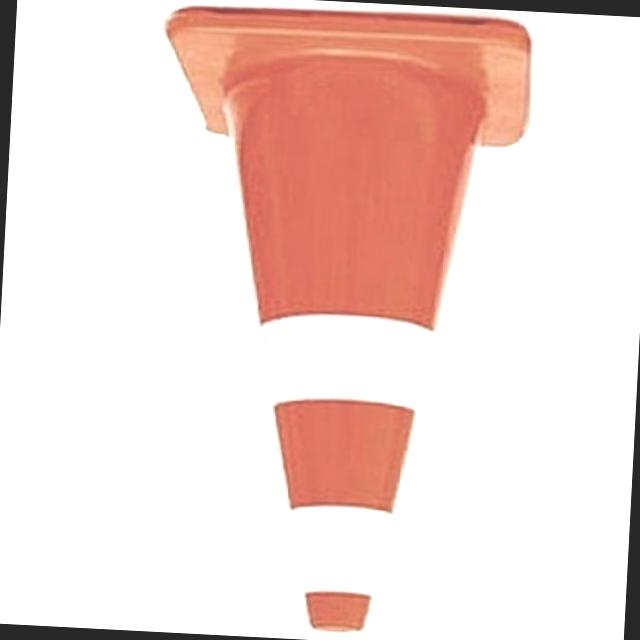cone: (142, 0, 524, 639)
